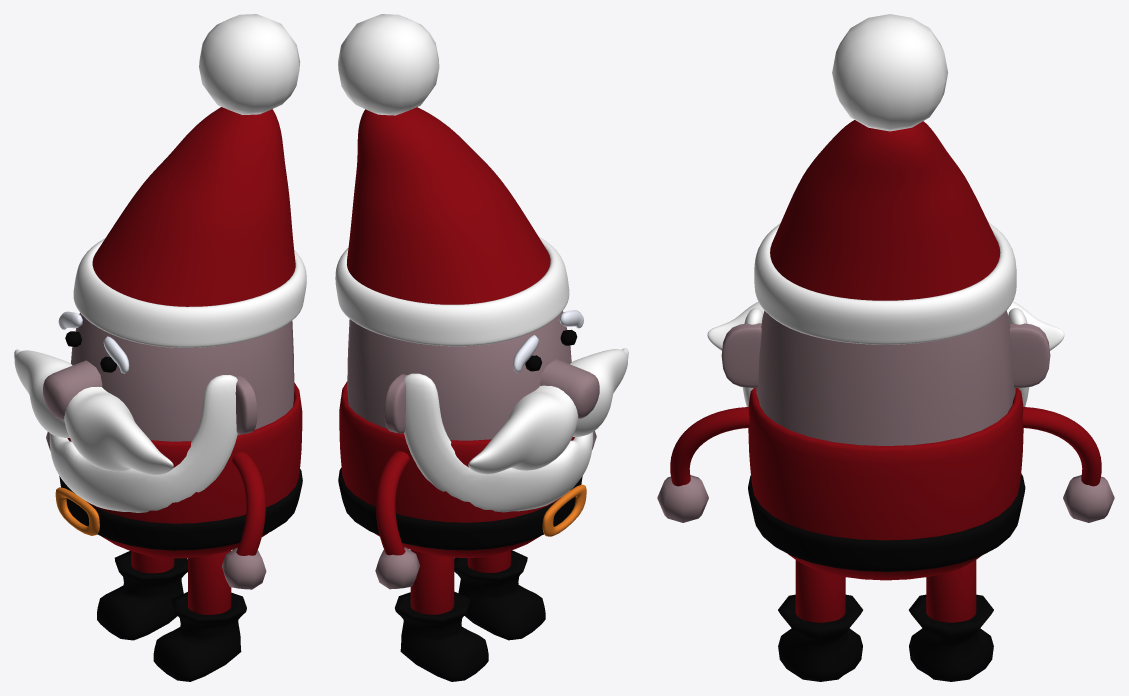
The model's file is santa.glb.
3 renders of one model, left to right at view 1: azimuth 30°, elevation 25°; view 2: azimuth 150°, elevation 25°; view 3: azimuth 270°, elevation 25°, orthographic. The views are drawn at different scales.
Parts seen in each view (by area): view 1: Body002, Body, Body001, Boots, Beard, Pants, Cube001, Stache, Belt, Legs, Arms, nose (+4 smaller); view 2: Body002, Body, Body001, Boots, Beard, Pants, Cube001, Stache, Belt, Legs, Arms, nose (+5 smaller); view 3: Body002, Pants, Body, Body001, Cube001, Boots, Belt, Legs, Arms, Ears, Hands, Stache (+1 smaller).
Boxes of the visible parts, box(x1,y1,x2,y2) form: Body002: box(92, 107, 295, 306); Body: box(71, 313, 294, 441); Body001: box(73, 238, 306, 347); Boots: box(97, 550, 246, 681); Beard: box(49, 375, 237, 512); Pants: box(67, 382, 302, 558); Cube001: box(199, 14, 300, 114); Stache: box(14, 349, 173, 474); Belt: box(59, 469, 302, 550); Legs: box(131, 550, 231, 614); Arms: box(232, 452, 265, 555); nose: box(43, 360, 102, 419); Body002: box(347, 107, 550, 304); Body: box(347, 311, 571, 440); Body001: box(335, 236, 569, 346); Boots: box(395, 550, 545, 681); Beard: box(404, 373, 592, 512); Pants: box(339, 381, 574, 557); Cube001: box(338, 14, 439, 115); Stache: box(468, 348, 628, 474); Belt: box(338, 467, 582, 550); Legs: box(410, 550, 511, 614); Arms: box(376, 451, 409, 555); nose: box(540, 359, 599, 418); Body002: box(770, 120, 1000, 300); Pants: box(748, 388, 1023, 580); Body: box(753, 310, 1015, 445); Body001: box(754, 222, 1016, 344); Cube001: box(832, 14, 948, 131); Boots: box(778, 594, 993, 681); Belt: box(748, 473, 1025, 571); Legs: box(795, 560, 976, 622); Arms: box(670, 407, 1101, 486); Ears: box(721, 323, 1050, 387); Hands: box(657, 475, 1114, 522); Stache: box(707, 301, 1064, 350).
Bounding box in the file's own units: 3.13 × 7.36 × 4.37.
